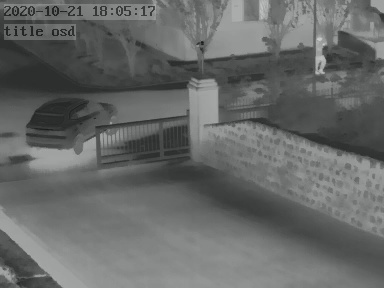person: (314, 34, 327, 77)
vehicle: (22, 97, 117, 153)
